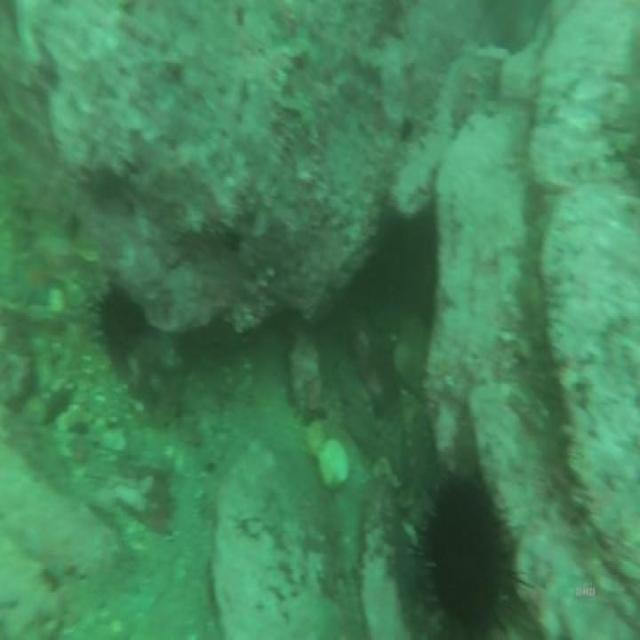echinus: (404, 452, 526, 640), (86, 275, 151, 368)
